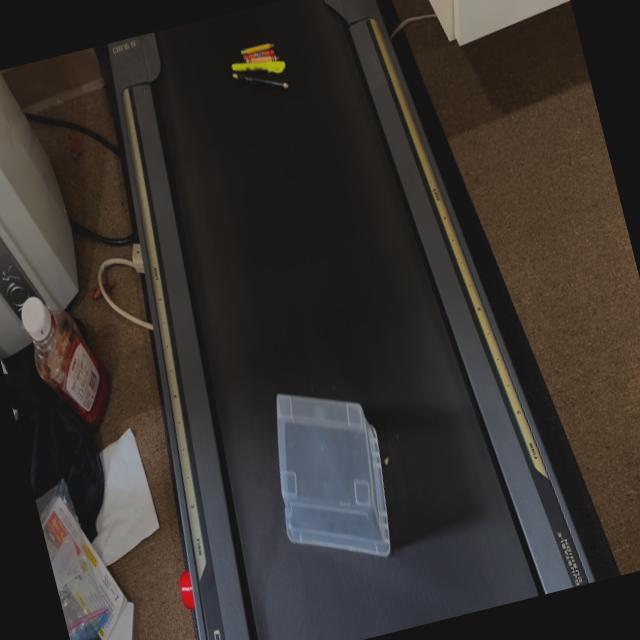Recycle: (252, 366, 414, 584)
Trash: (218, 24, 300, 109)
